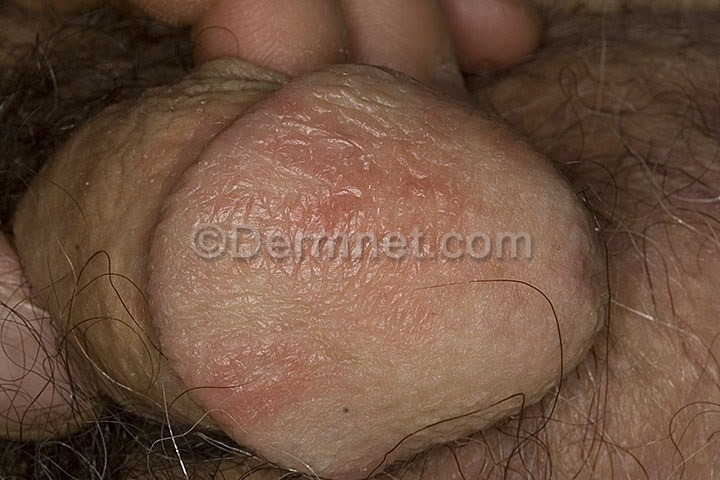Psoriasis: (167, 104, 476, 412)
